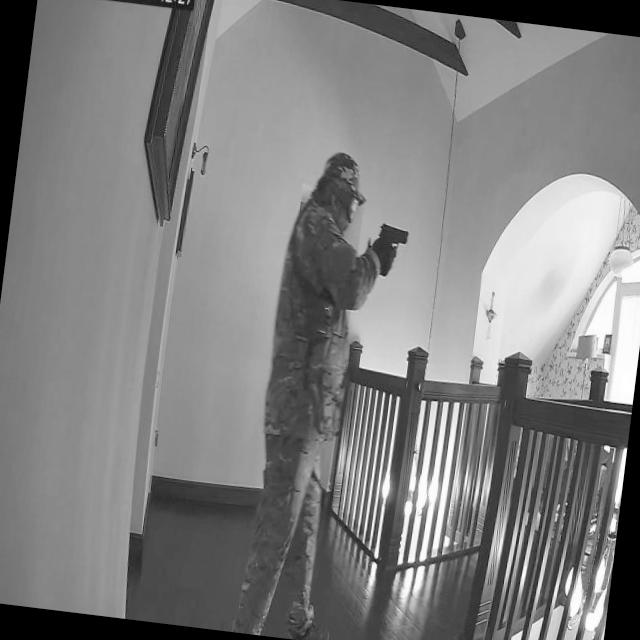gun: (375, 220, 410, 262)
person with a gun: (236, 142, 382, 640)
